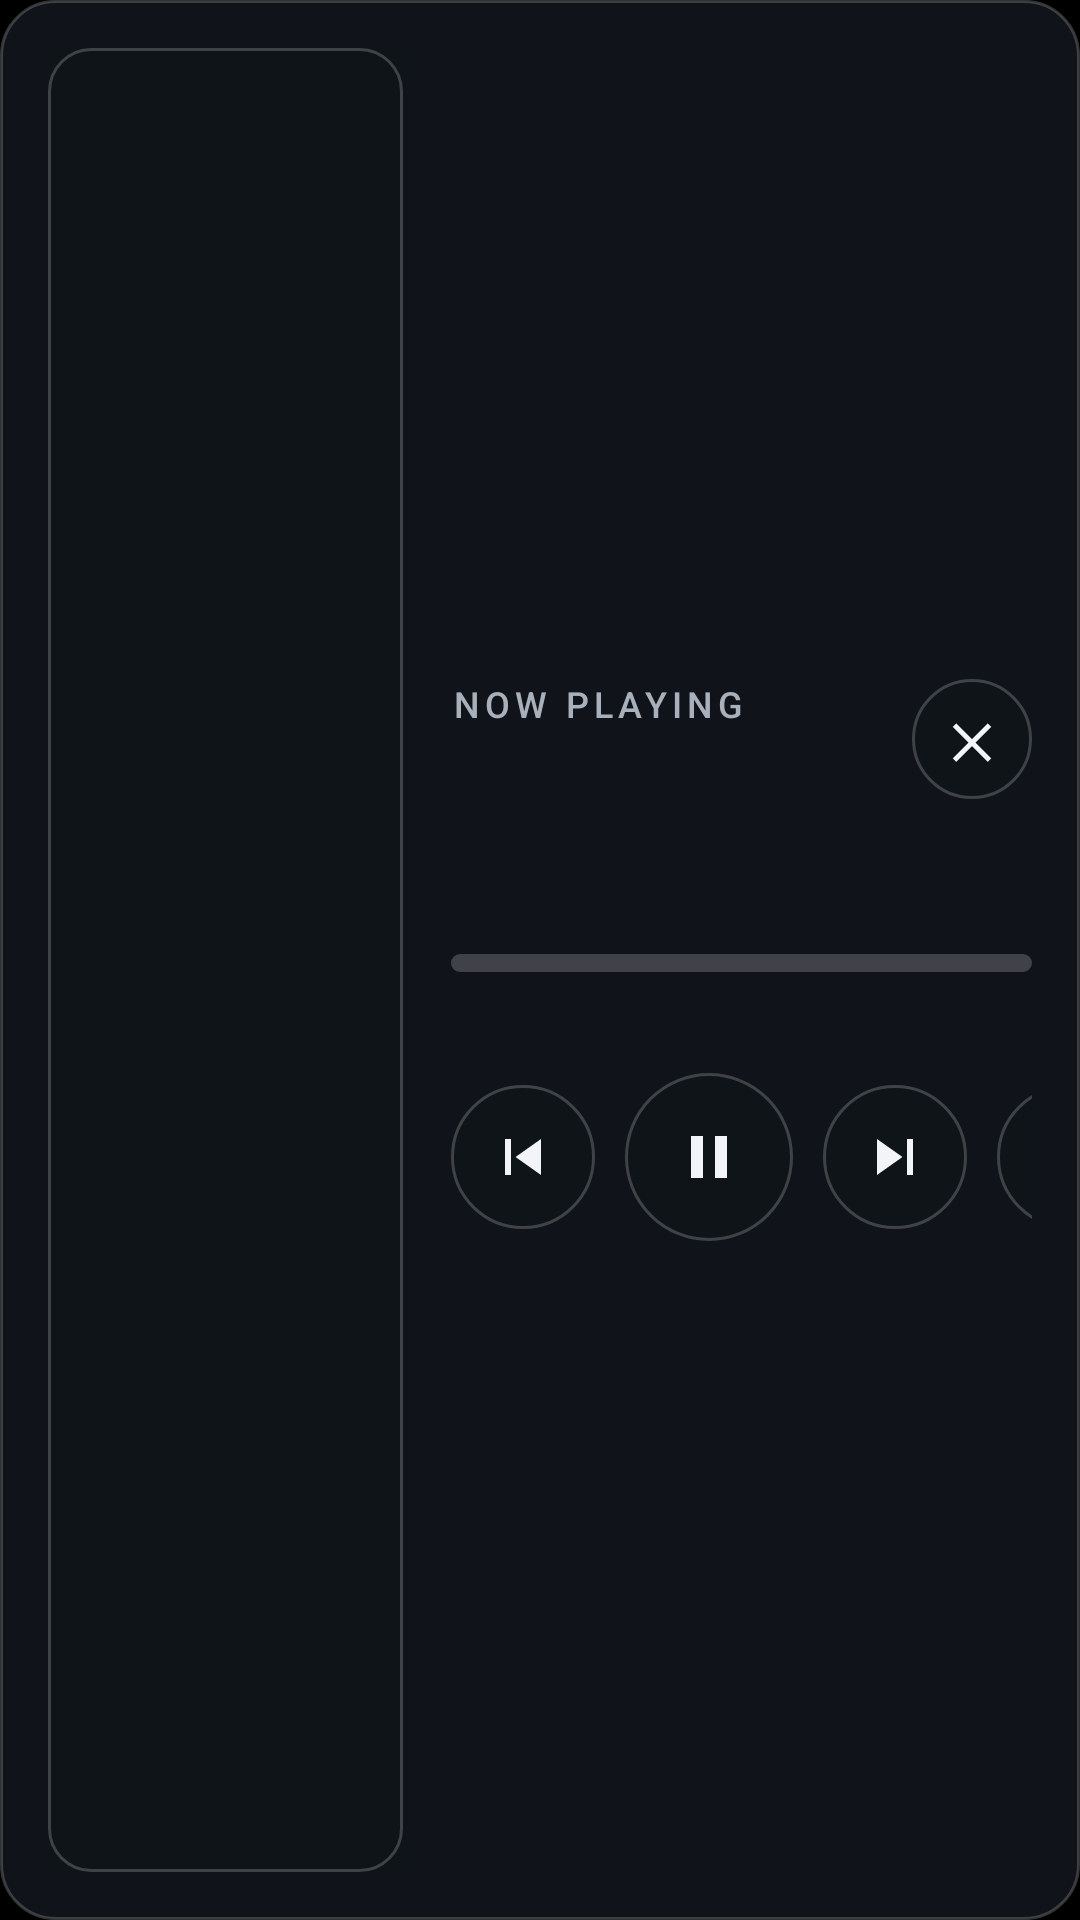

Locate icon controls on the screen. Image size 1080*1920, boxes as (x1, y1, x2, y2).
Next: (823, 1085, 967, 1229)
Play or pause: (625, 1073, 793, 1241)
Previous: (451, 1085, 595, 1229)
